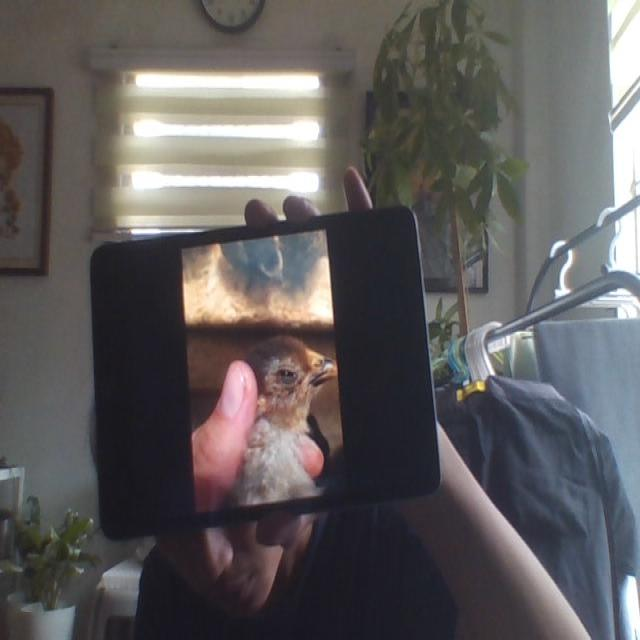Sick: (235, 332, 336, 497)
